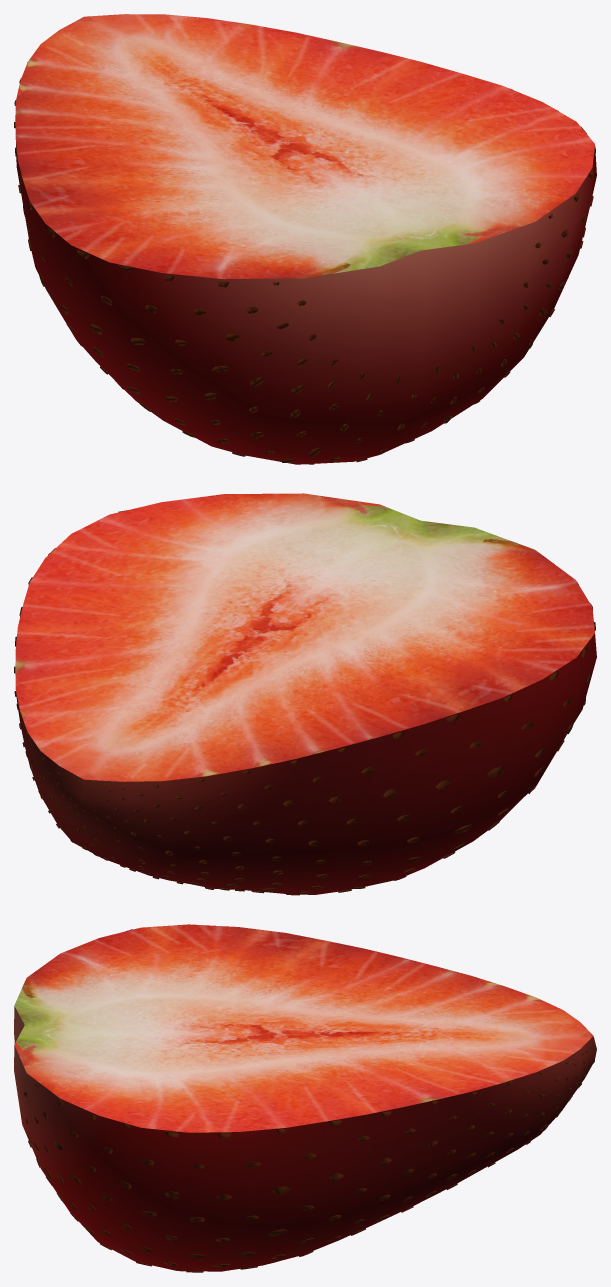
Rendered from Strawberry.fbx.
3 views of the same model, one above another, from view 1: azimuth 30°, elevation 25°; view 2: azimuth 150°, elevation 25°; view 3: azimuth 270°, elevation 25° (orthographic). The views are drawn at different scales.
Visible parts, largest first — view 1: straw_cut.004; view 2: straw_cut.004; view 3: straw_cut.004.
Part boxes in pixels (x1,y1,x2,y2): straw_cut.004: (14,14,596,464); straw_cut.004: (14,493,596,895); straw_cut.004: (14,924,596,1272).
Bounding box in the file's own units: 67.47 × 79.78 × 34.71.
Materials: 3 (2 with a texture image).
